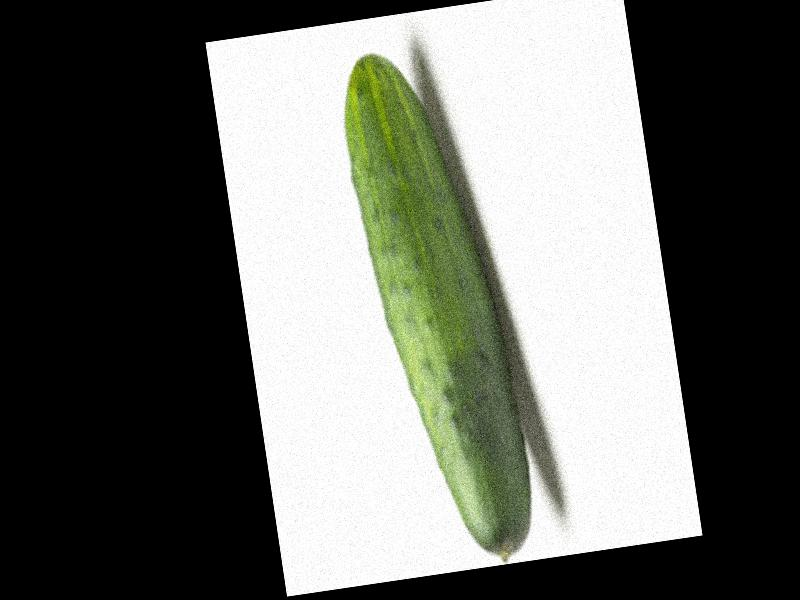Cucumber: (333, 41, 545, 576)
